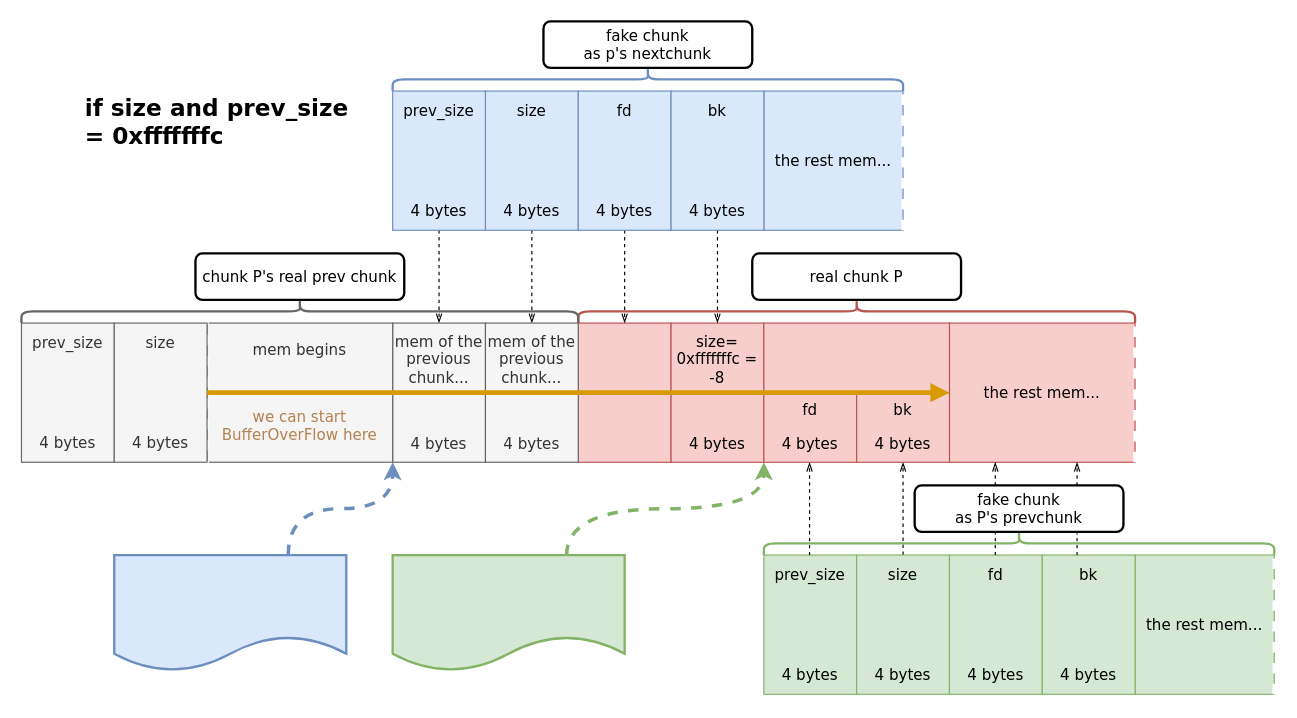
Image size: 1297x718. Some labels were removed from this diagram. The box of each missing label's shape, as (x1, y1, x2, y2) in pixels:
mem begins: (763, 322, 949, 393)
nextchunk = p + size = p + 0xfffffff8 = p + -8 = p - 8: (113, 553, 347, 672)
prev_size = 0xfffffff8 = -8 4 bytes: (577, 322, 671, 462)
prevchunk = p - prev_size = p - 0xfffffff8 = p - -8 = p + 8: (391, 553, 625, 672)
